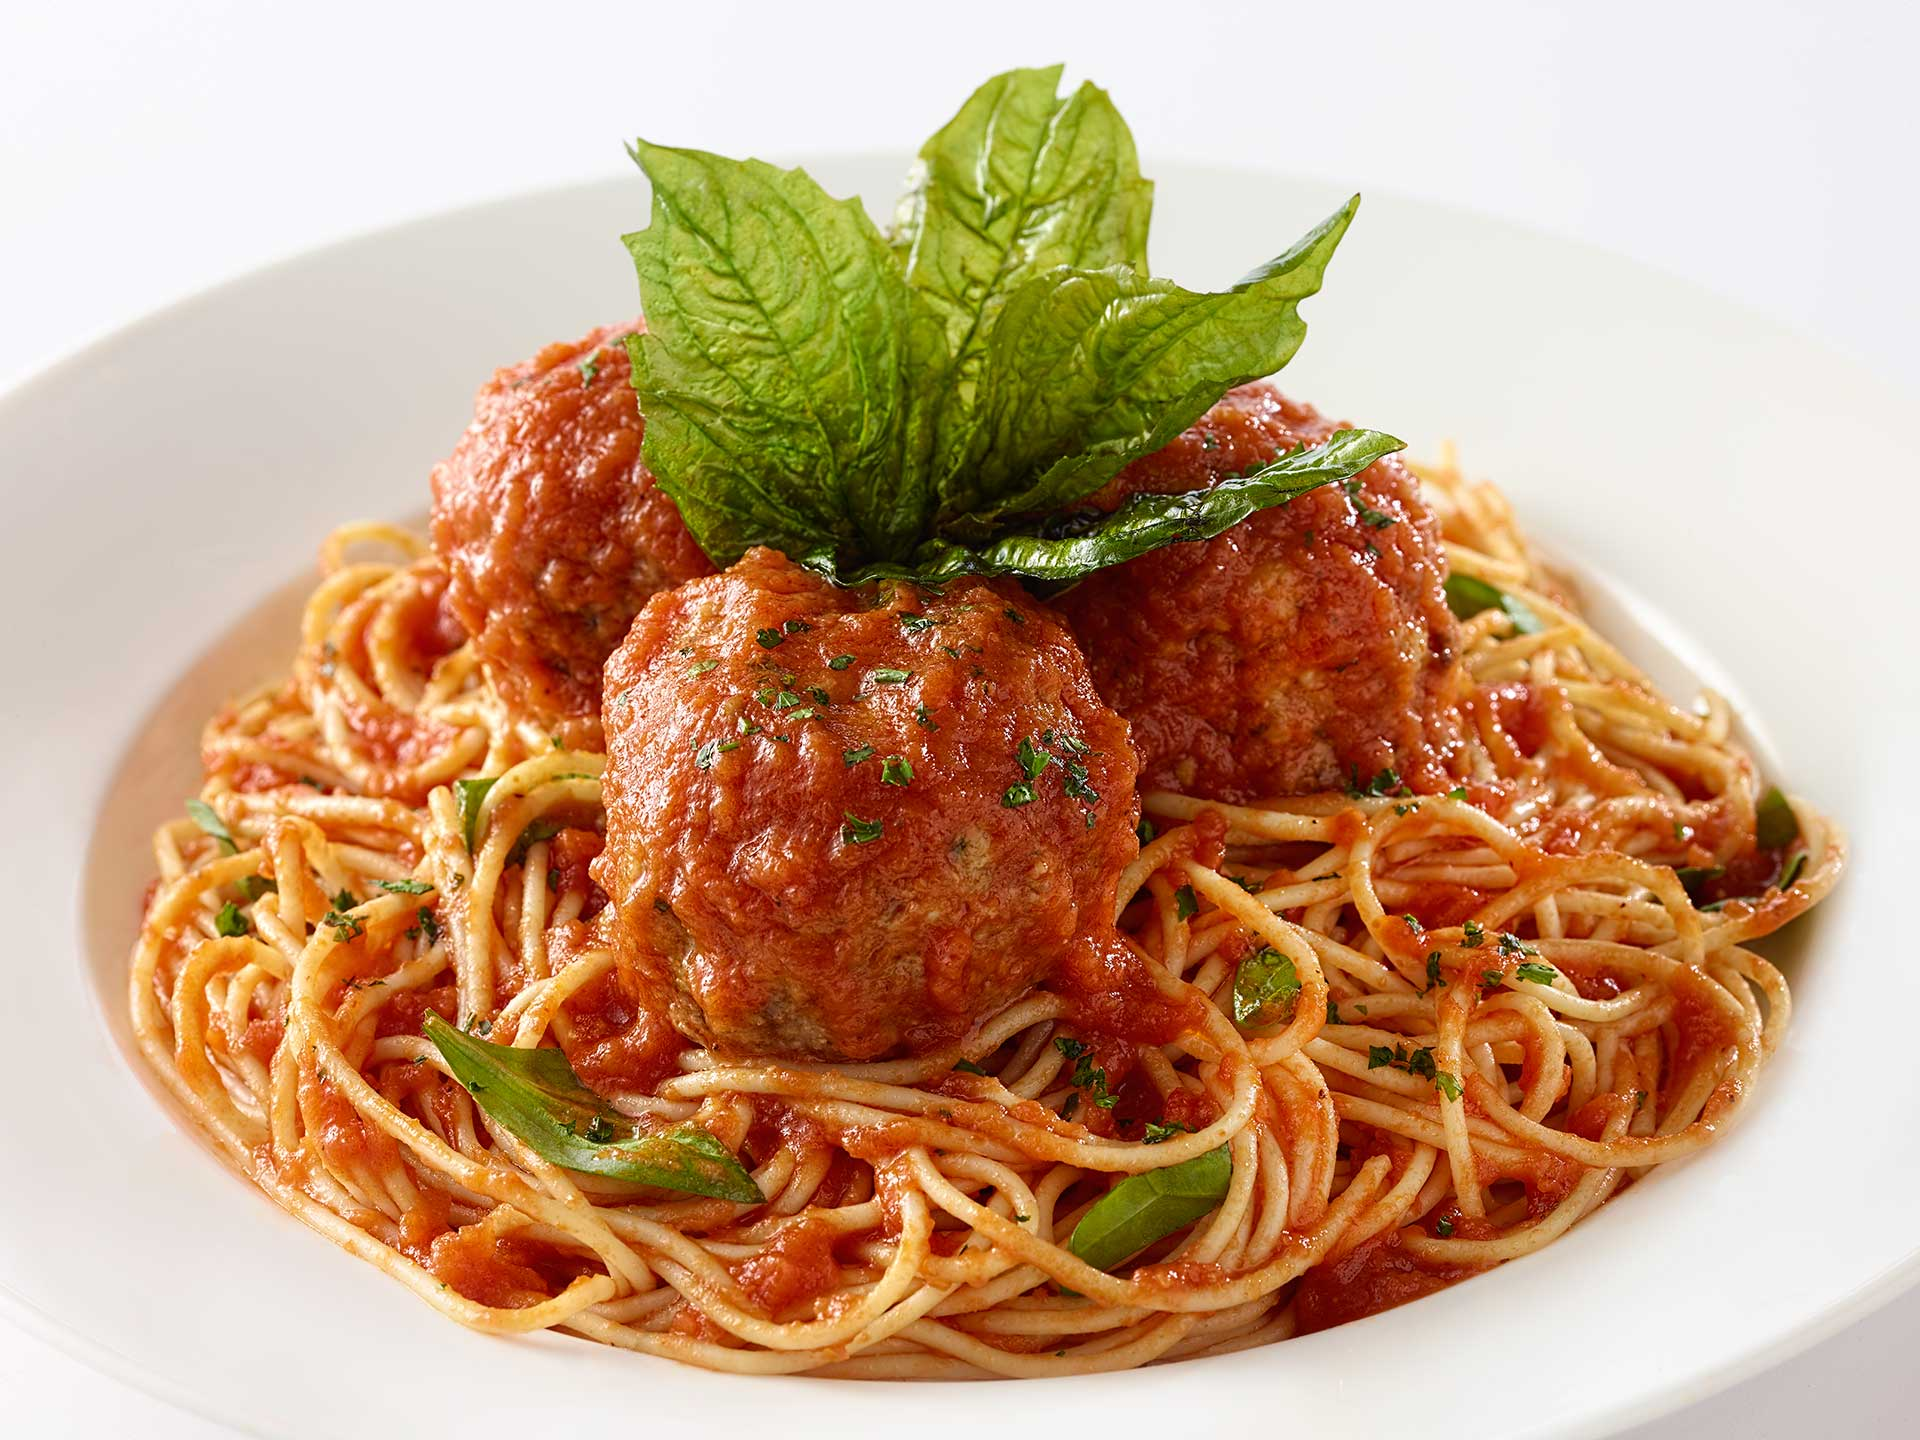meatballs: (609, 585, 1113, 1019), (1081, 405, 1457, 785), (423, 358, 698, 718)
plain spaghetti: (605, 1026, 1528, 1379), (187, 690, 605, 1305), (1264, 718, 1760, 1156)
